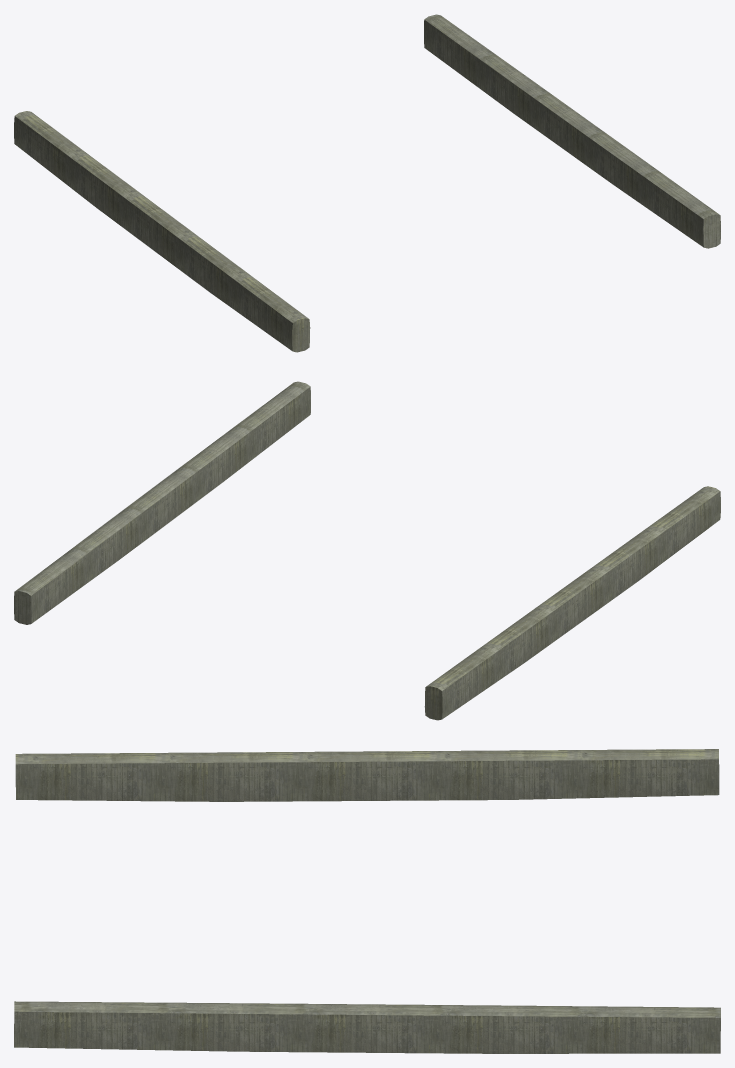
File: SM_Republic_02_00.007.fbx
3 renders of one model, top to bottom at view 1: azimuth 30°, elevation 25°; view 2: azimuth 150°, elevation 25°; view 3: azimuth 270°, elevation 25°, orthographic. The views are drawn at different scales.
Visible parts, largest first — view 1: SM_Republic_02_00.007; view 2: SM_Republic_02_00.007; view 3: SM_Republic_02_00.007.
Part boxes in pixels (x1,y1,x2,y2): SM_Republic_02_00.007: (14,14,720,352); SM_Republic_02_00.007: (14,381,720,720); SM_Republic_02_00.007: (14,749,720,1053).
Bounding box in the file's own units: 4547 × 388 × 5144.
